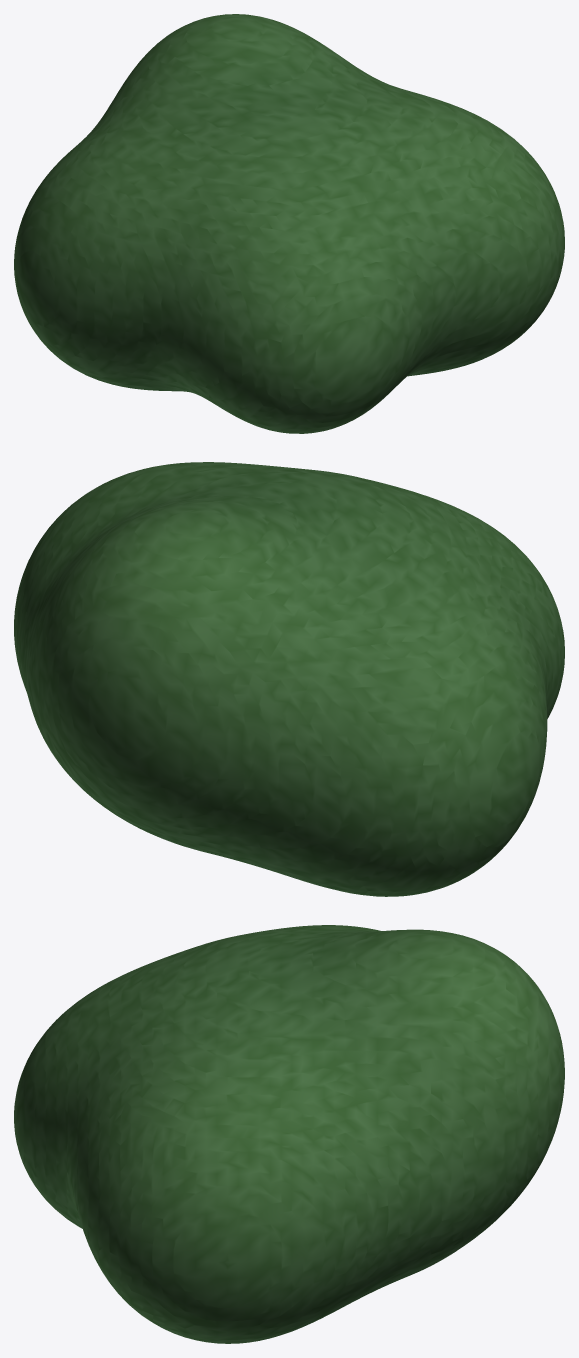
The model's file is bush.glb.
3 views of the same model, one above another, from view 1: azimuth 30°, elevation 25°; view 2: azimuth 150°, elevation 25°; view 3: azimuth 270°, elevation 25° (orthographic). The views are drawn at different scales.
Visible parts, largest first — view 1: bush; view 2: bush; view 3: bush.
Part boxes in pixels (x1,y1,x2,y2): bush: (14,14,564,433); bush: (14,462,564,896); bush: (14,925,564,1343).
Size of the model in its own units: 1.48 by 0.9103 by 1.37.
